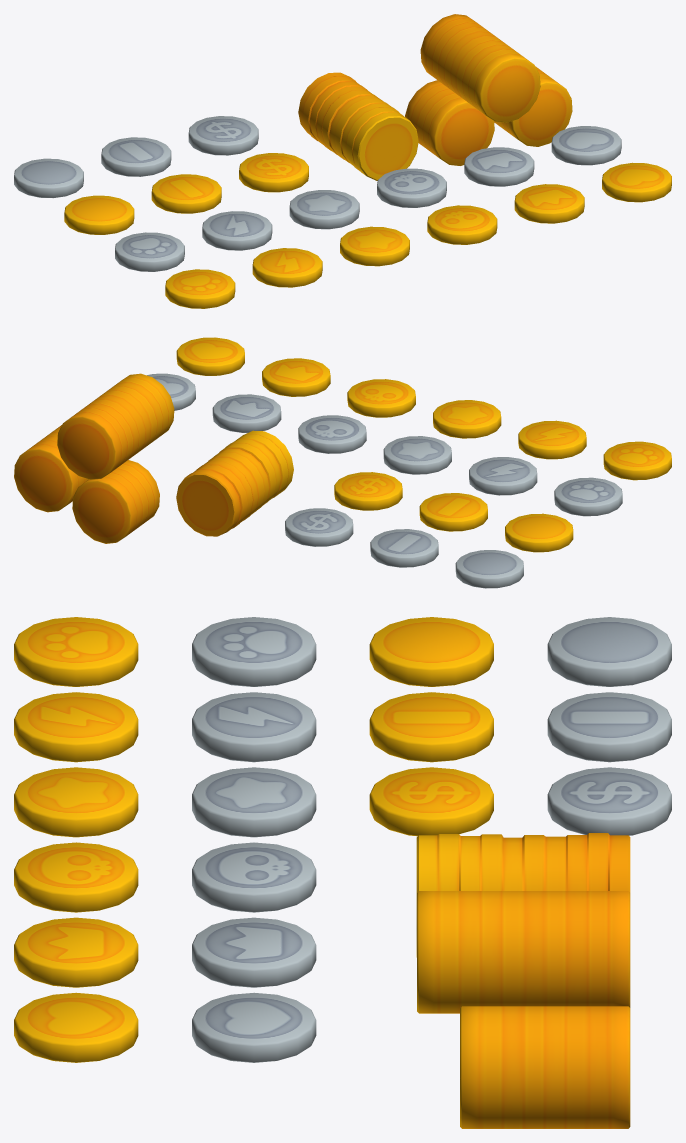
File: Coin Pack.fbx
3 renders of one model, top to bottom at view 1: azimuth 30°, elevation 25°; view 2: azimuth 150°, elevation 25°; view 3: azimuth 270°, elevation 25°, orthographic. The views are drawn at different scales.
Visible parts, largest first — view 1: Coins_02_Coins_02_0-0, Coins_01_Coins_01_0-0, Coin_One_Silver_Coin_One_Silver_0-0, Coin_Crown_Gold_Coin_Crown_Gold_0-0, Coin_One_Gold_Coin_One_Gold_0-0, Coin_Gold_Coin_Gold_0-0, Coin_Thunder_Silver_Coin_Thunder_Silver_0-0, Coin_Skull_Gold_Coin_Skull_Gold_0-0, Coin_Crown_Silver_Coin_Crown_Silver_0-0, Coin_Dollar_Silver_Coin_Dollar_Silver_0-0, Coin_Thunder_Gold_Coin_Thunder_Gold_0-0, Coin_Pet_Gold_Coin_Pet_Gold_0-0 (+8 smaller); view 2: Coins_02_Coins_02_0-0, Coins_01_Coins_01_0-0, Coin_One_Gold_Coin_One_Gold_0-0, Coin_Star_Silver_Coin_Star_Silver_0-0, Coin_Thunder_Silver_Coin_Thunder_Silver_0-0, Coin_Gold_Coin_Gold_0-0, Coin_Crown_Gold_Coin_Crown_Gold_0-0, Coin_Star_Gold_Coin_Star_Gold_0-0, Coin_Skull_Gold_Coin_Skull_Gold_0-0, Coin_Dollar_Gold_Coin_Dollar_Gold_0-0, Coin_Pet_Silver_Coin_Pet_Silver_0-0, Coin_Skull_Silver_Coin_Skull_Silver_0-0 (+9 smaller); view 3: Coins_02_Coins_02_0-0, Coins_01_Coins_01_0-0, Coin_Silver_Coin_Silver_0-0, Coin_One_Silver_Coin_One_Silver_0-0, Coin_Thunder_Gold_Coin_Thunder_Gold_0-0, Coin_Pet_Gold_Coin_Pet_Gold_0-0, Coin_Star_Gold_Coin_Star_Gold_0-0, Coin_Pet_Silver_Coin_Pet_Silver_0-0, Coin_Thunder_Silver_Coin_Thunder_Silver_0-0, Coin_Heart_Gold_Coin_Heart_Gold_0-0, Coin_Skull_Gold_Coin_Skull_Gold_0-0, Coin_Crown_Gold_Coin_Crown_Gold_0-0 (+8 smaller).
Boxes of the visible parts, x1,y1,x2,y2 form: Coins_02_Coins_02_0-0: (405, 14, 572, 165); Coins_01_Coins_01_0-0: (298, 72, 418, 180); Coin_One_Silver_Coin_One_Silver_0-0: (101, 137, 171, 176); Coin_Crown_Gold_Coin_Crown_Gold_0-0: (514, 184, 584, 223); Coin_One_Gold_Coin_One_Gold_0-0: (151, 174, 221, 213); Coin_Gold_Coin_Gold_0-0: (64, 195, 134, 234); Coin_Thunder_Silver_Coin_Thunder_Silver_0-0: (202, 211, 272, 250); Coin_Skull_Gold_Coin_Skull_Gold_0-0: (427, 205, 497, 244); Coin_Crown_Silver_Coin_Crown_Silver_0-0: (464, 147, 534, 186); Coin_Dollar_Silver_Coin_Dollar_Silver_0-0: (188, 116, 258, 155); Coin_Thunder_Gold_Coin_Thunder_Gold_0-0: (252, 248, 322, 287); Coin_Pet_Gold_Coin_Pet_Gold_0-0: (165, 269, 235, 308); Coins_02_Coins_02_0-0: (14, 373, 174, 543); Coins_01_Coins_01_0-0: (176, 430, 293, 536); Coin_One_Gold_Coin_One_Gold_0-0: (419, 493, 487, 531); Coin_Star_Silver_Coin_Star_Silver_0-0: (383, 436, 451, 474); Coin_Thunder_Silver_Coin_Thunder_Silver_0-0: (469, 457, 537, 495); Coin_Gold_Coin_Gold_0-0: (505, 513, 573, 552); Coin_Crown_Gold_Coin_Crown_Gold_0-0: (262, 358, 330, 396); Coin_Star_Gold_Coin_Star_Gold_0-0: (433, 400, 501, 438); Coin_Skull_Gold_Coin_Skull_Gold_0-0: (347, 379, 415, 417); Coin_Dollar_Gold_Coin_Dollar_Gold_0-0: (334, 472, 402, 510); Coin_Pet_Silver_Coin_Pet_Silver_0-0: (554, 477, 622, 516); Coin_Skull_Silver_Coin_Skull_Silver_0-0: (298, 415, 366, 453); Coins_02_Coins_02_0-0: (417, 891, 630, 1128); Coins_01_Coins_01_0-0: (416, 833, 630, 957); Coin_Silver_Coin_Silver_0-0: (547, 617, 671, 686); Coin_One_Silver_Coin_One_Silver_0-0: (547, 692, 671, 762); Coin_Thunder_Gold_Coin_Thunder_Gold_0-0: (14, 692, 138, 762); Coin_Pet_Gold_Coin_Pet_Gold_0-0: (14, 617, 138, 686); Coin_Star_Gold_Coin_Star_Gold_0-0: (14, 767, 138, 837); Coin_Pet_Silver_Coin_Pet_Silver_0-0: (192, 617, 316, 686); Coin_Thunder_Silver_Coin_Thunder_Silver_0-0: (192, 692, 316, 762); Coin_Heart_Gold_Coin_Heart_Gold_0-0: (14, 993, 138, 1062); Coin_Skull_Gold_Coin_Skull_Gold_0-0: (14, 842, 138, 912); Coin_Crown_Gold_Coin_Crown_Gold_0-0: (14, 917, 138, 987).
Bounding box in the file's own units: 586 × 137 × 370.
20 materials, 20 textured.
